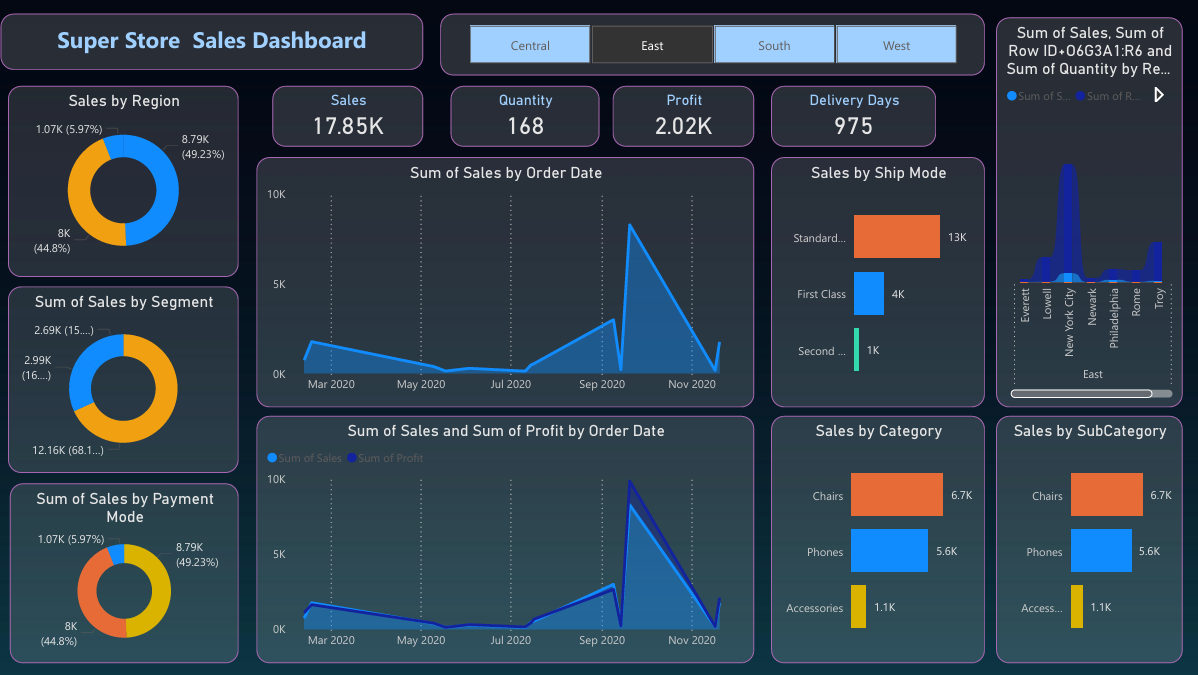

What the dashboard file says about the page in this screenshot:
{"tool":"powerbi","page":{"name":"Page 1","canvas":[1280,720],"ordinal":0},"visuals":[{"type":"clusteredBarChart","title":" Sales by Ship Mode","fields":{"Y":["Sum(SuperStore_Sales_Dataset.Sales)"],"Category":["SuperStore_Sales_Dataset.Ship Mode","SuperStore_Sales_Dataset.Category"]},"box":[822,167.4,227.8,266.2],"z":0},{"type":"clusteredBarChart","title":" Sales by SubCategory","fields":{"Y":["Sum(SuperStore_Sales_Dataset.Sales)"],"Category":["SuperStore_Sales_Dataset.Sub-Category"]},"box":[1062.1,443.2,199,263.5],"z":1000},{"type":"stackedAreaChart","fields":{"Category":["SuperStore_Sales_Dataset.Order Date"],"Y":["Sum(SuperStore_Sales_Dataset.Sales)"]},"box":[273.1,167.4,531,266.2],"z":2000},{"type":"stackedAreaChart","fields":{"Category":["SuperStore_Sales_Dataset.Order Date"],"Y":["Sum(SuperStore_Sales_Dataset.Sales)","Sum(SuperStore_Sales_Dataset.Profit)"]},"box":[273.1,443.2,531,263.5],"z":3000},{"type":"donutChart","fields":{"Category":["SuperStore_Sales_Dataset.Segment"],"Y":["Sum(SuperStore_Sales_Dataset.Sales)"]},"box":[8.2,304.6,245.6,199],"z":4000},{"type":"donutChart","fields":{"Category":["SuperStore_Sales_Dataset.Payment Mode","SuperStore_Sales_Dataset.Segment"],"Y":["Sum(SuperStore_Sales_Dataset.Sales)"]},"box":[9.6,514.6,244.3,192.1],"z":5000},{"type":"slicer","fields":{"Values":["SuperStore_Sales_Dataset.Region"]},"box":[469.3,13.7,580.4,65.9],"z":6000},{"type":"textbox","box":[0,13.7,451.5,60.4],"z":7000},{"type":"card","title":"Sales","fields":{"Values":["Sum(SuperStore_Sales_Dataset.Sales)"]},"box":[289.5,90.6,161.9,65.9],"z":8000},{"type":"card","title":"Quantity","fields":{"Values":["Sum(SuperStore_Sales_Dataset.Quantity)"]},"box":[480.3,90.6,159.2,65.9],"z":9000},{"type":"card","title":"Profit","fields":{"Values":["Sum(SuperStore_Sales_Dataset.Profit)"]},"box":[653.2,90.6,150.9,65.9],"z":10000},{"type":"card","title":"Delivery Days","fields":{"Values":["Sum(SuperStore_Sales.Delivery Days)"]},"box":[822,90.6,175.6,65.9],"z":11000},{"type":"donutChart","title":"Sales by Region","fields":{"Category":["SuperStore_Sales.Payment Mode","SuperStore_Sales.Country"],"Y":["Sum(SuperStore_Sales_Dataset.Sales)"],"Series":["SuperStore_Sales.Region"]},"box":[8.2,90.6,245.6,204.5],"z":12000},{"type":"clusteredBarChart","title":" Sales by Category","fields":{"Y":["Sum(SuperStore_Sales_Dataset.Sales)"],"Category":["SuperStore_Sales_Dataset.Sub-Category"]},"box":[822,443.2,227.8,263.5],"z":13000},{"type":"ribbonChart","fields":{"Category":["SuperStore_Sales.Region","SuperStore_Sales.City"],"Y":["Sum(SuperStore_Sales.Sales)","Sum(SuperStore_Sales.Row ID+O6G3A1:R6)","Sum(SuperStore_Sales.Quantity)"]},"box":[1062.1,17.8,199,415.8],"z":14000}]}

Visuals, with their boxes in screenshot pixels (x1, y1, x2, y2), scaled from the page's 1280x720 canvas onto the 1198x675 screenshot:
" Sales by Ship Mode" clusteredBarChart: (769, 157, 983, 406)
" Sales by SubCategory" clusteredBarChart: (994, 416, 1180, 663)
stackedAreaChart - SuperStore_Sales_Dataset.Order Date x Sum(SuperStore_Sales_Dataset.Sales): (256, 157, 753, 406)
stackedAreaChart - SuperStore_Sales_Dataset.Order Date x Sum(SuperStore_Sales_Dataset.Sales): (256, 416, 753, 663)
donutChart - SuperStore_Sales_Dataset.Segment x Sum(SuperStore_Sales_Dataset.Sales): (8, 286, 238, 472)
donutChart - SuperStore_Sales_Dataset.Payment Mode x SuperStore_Sales_Dataset.Segment: (9, 482, 238, 663)
slicer - SuperStore_Sales_Dataset.Region: (439, 13, 982, 75)
textbox: (0, 13, 423, 69)
"Sales" card: (271, 85, 422, 147)
"Quantity" card: (450, 85, 599, 147)
"Profit" card: (611, 85, 753, 147)
"Delivery Days" card: (769, 85, 934, 147)
"Sales by Region" donutChart: (8, 85, 238, 277)
" Sales by Category" clusteredBarChart: (769, 416, 983, 663)
ribbonChart - SuperStore_Sales.Region x SuperStore_Sales.City: (994, 17, 1180, 406)
